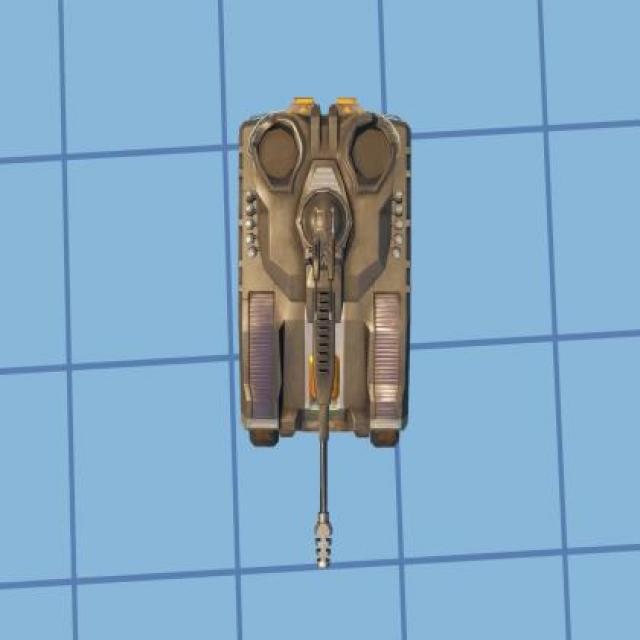tank: (238, 94, 411, 572)
